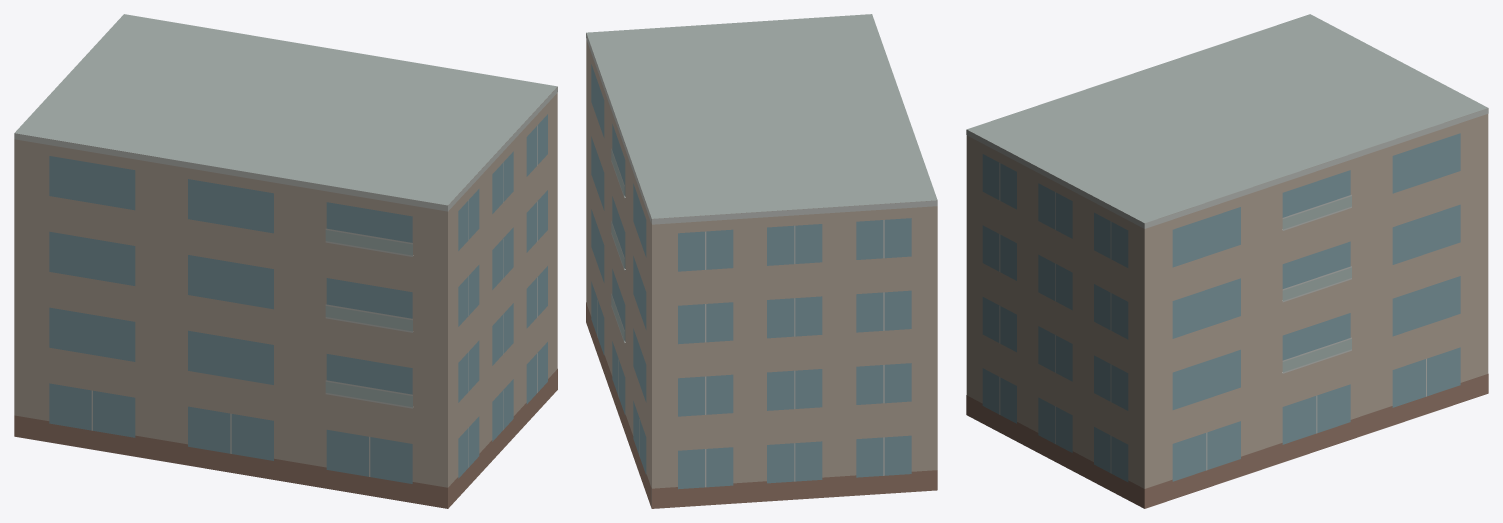
File: survey-upis-32663185.glb
3 renders of one model, left to right at view 1: azimuth 30°, elevation 25°; view 2: azimuth 150°, elevation 25°; view 3: azimuth 270°, elevation 25°, orthographic. The views are drawn at different scales.
Visible parts, largest first — view 1: survey-upis-32663185.tmp; view 2: survey-upis-32663185.tmp; view 3: survey-upis-32663185.tmp.
Part boxes in pixels (x1,y1,x2,y2): survey-upis-32663185.tmp: (14, 14, 557, 508); survey-upis-32663185.tmp: (586, 14, 937, 508); survey-upis-32663185.tmp: (966, 14, 1488, 508).
Size of the model in its own units: 19.18 by 12.2 by 20.22.
